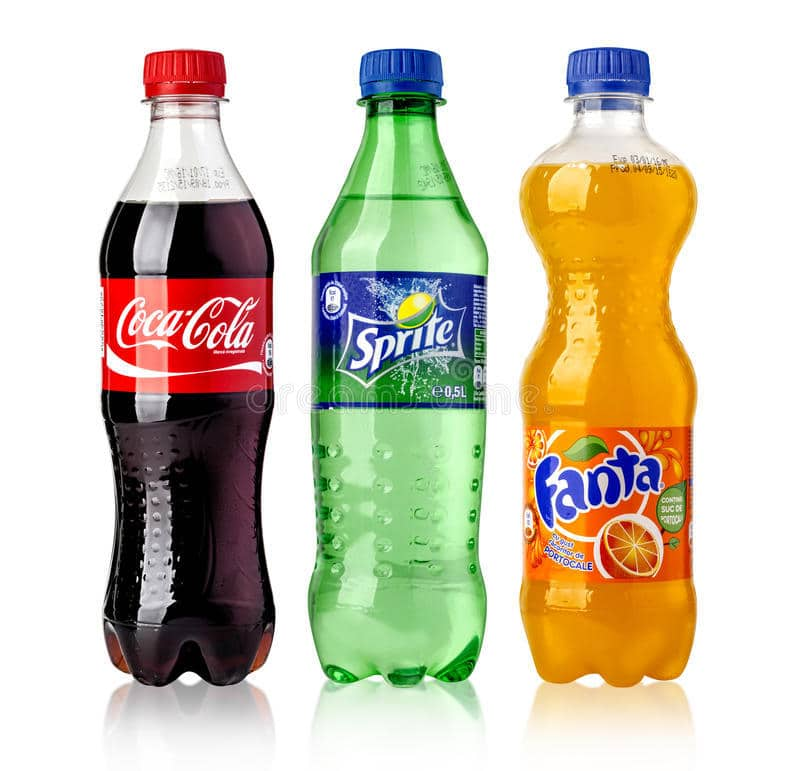bottle: (301, 12, 504, 720), (79, 27, 289, 707), (519, 29, 708, 699)
